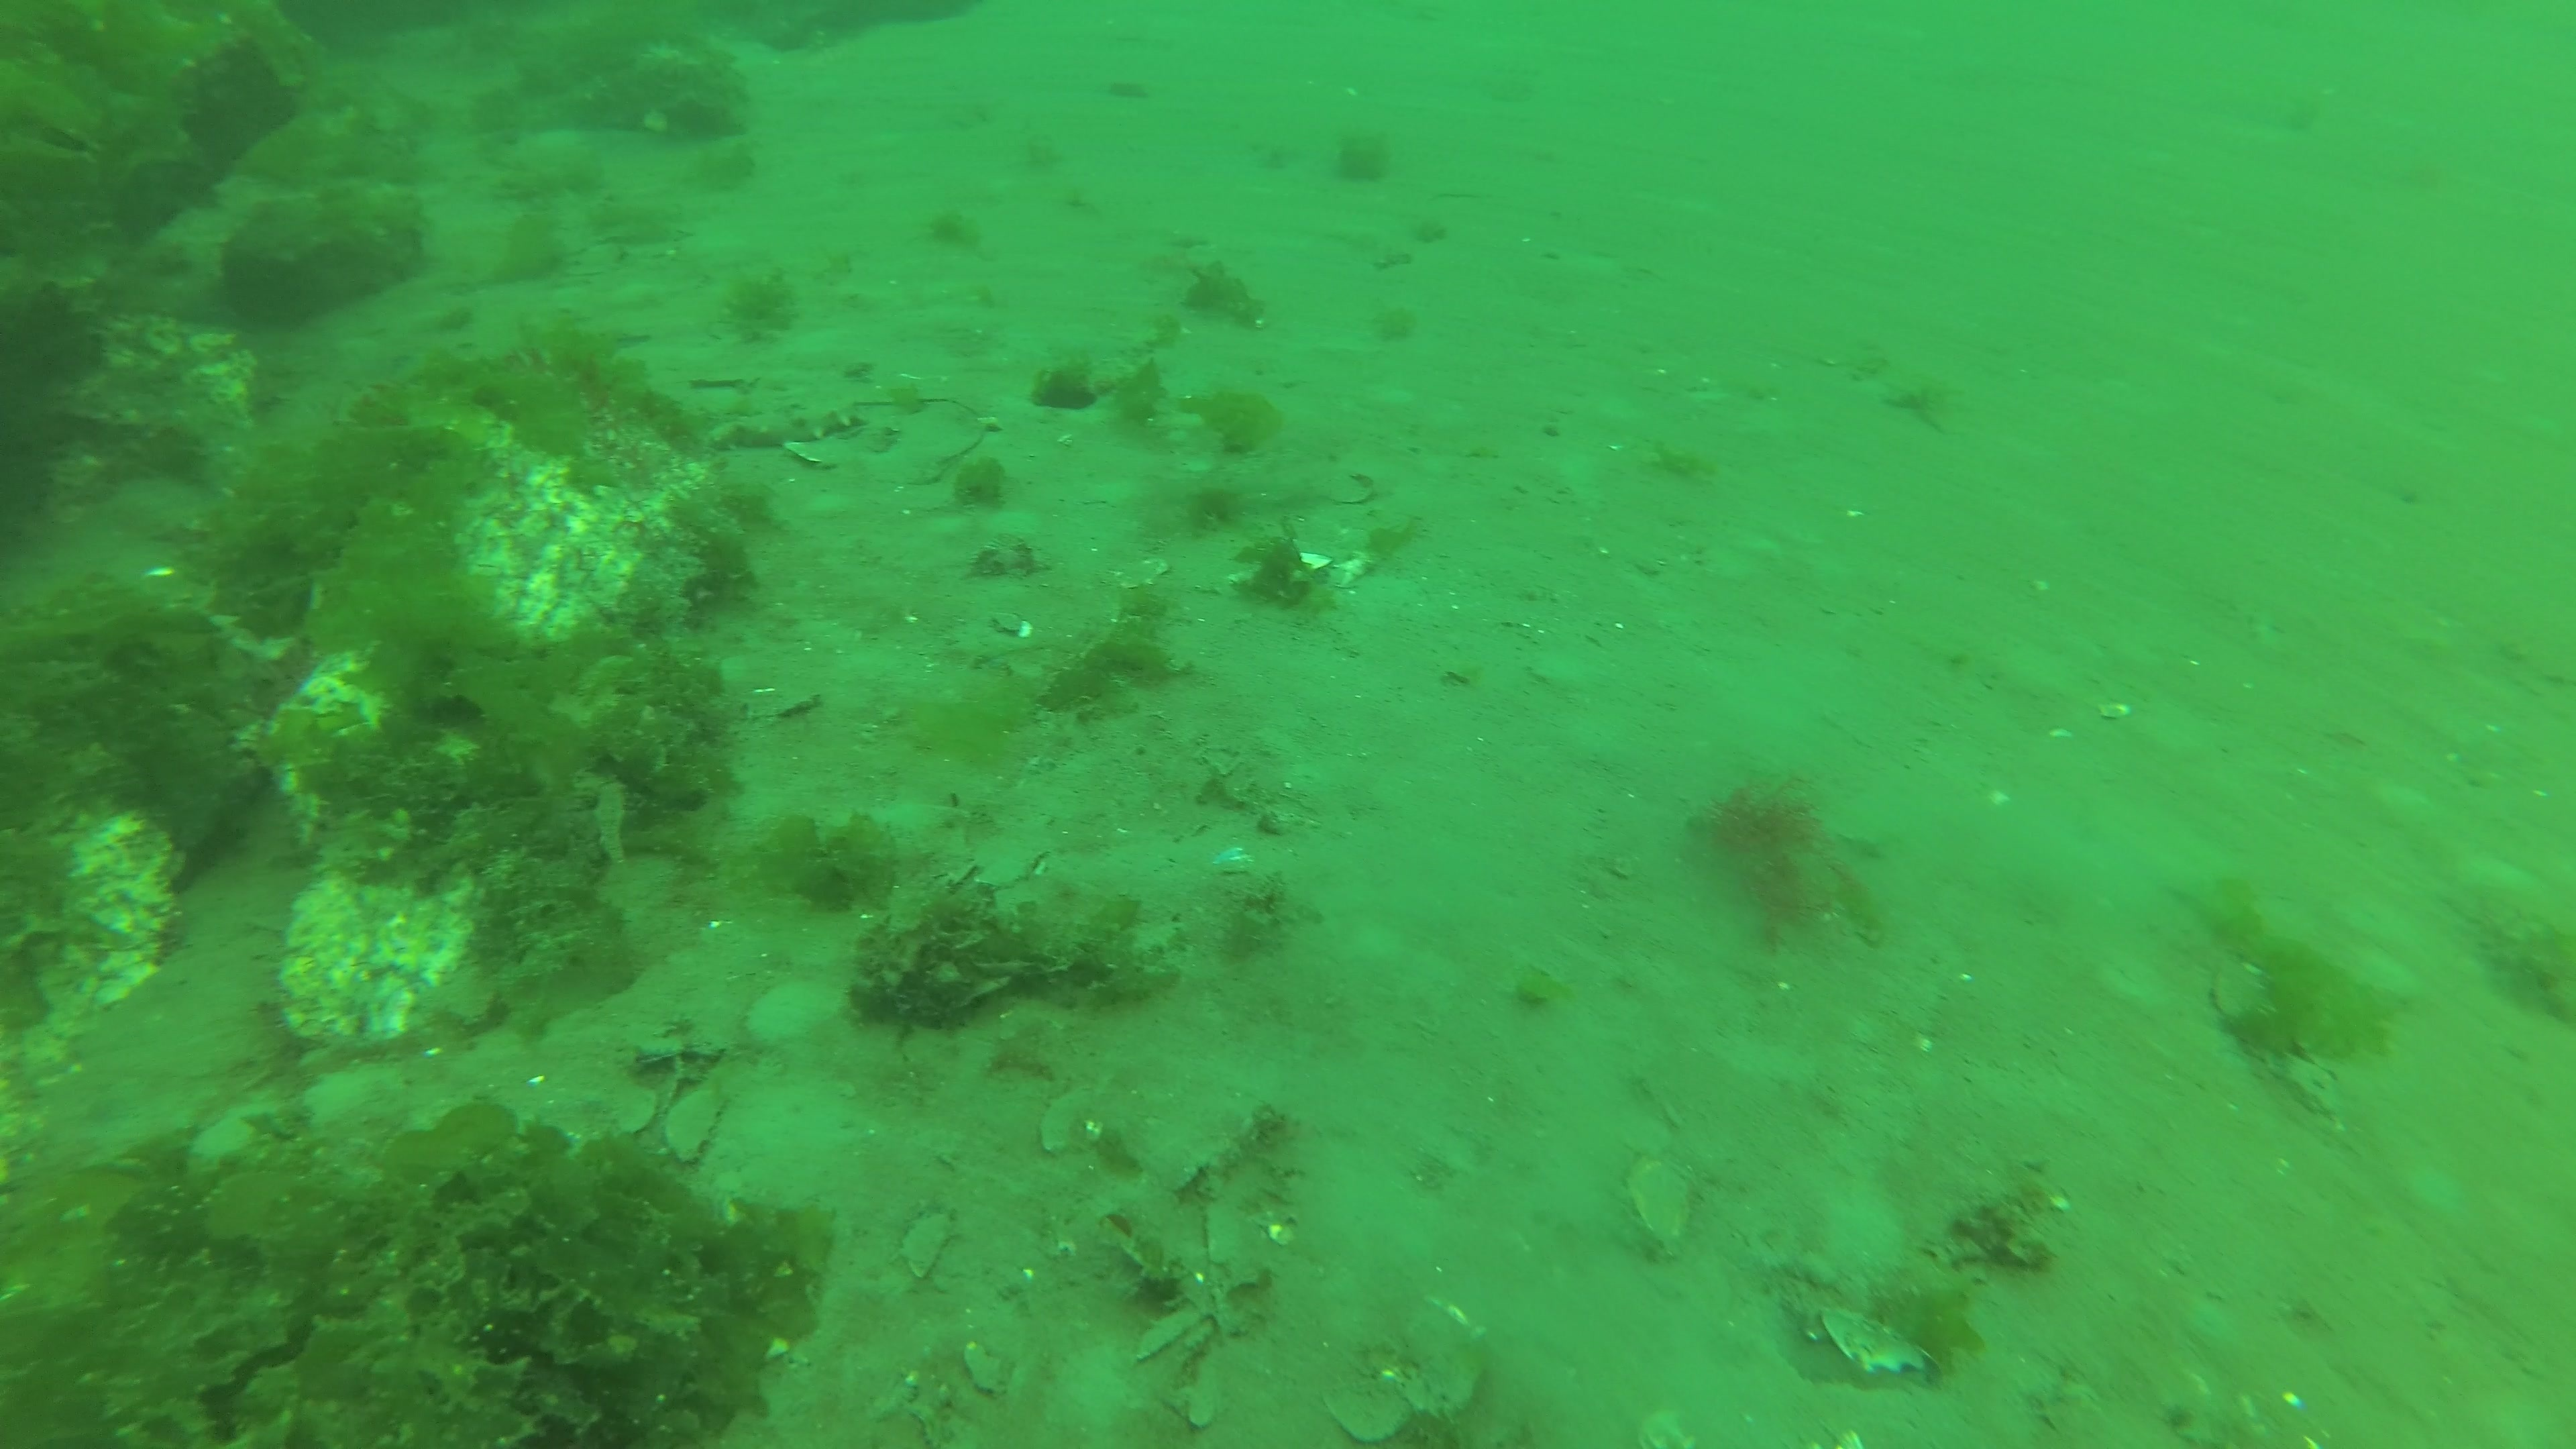holothurian: (711, 393, 863, 456)
